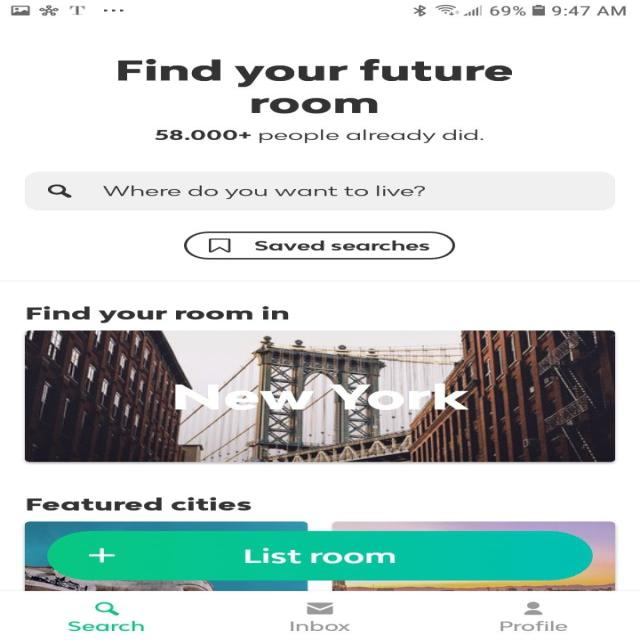EditText: (24, 172, 614, 210)
Icon: (94, 601, 119, 615), (306, 602, 334, 614), (48, 184, 72, 198), (522, 601, 542, 614)
Image: (24, 330, 614, 462)
Text: (117, 59, 512, 114), (173, 383, 468, 410), (154, 129, 483, 143), (103, 185, 425, 199), (26, 306, 288, 323), (25, 496, 252, 511), (68, 620, 145, 631), (500, 620, 568, 631), (288, 620, 350, 631)
TextButton: (47, 531, 592, 580), (183, 231, 455, 259)
